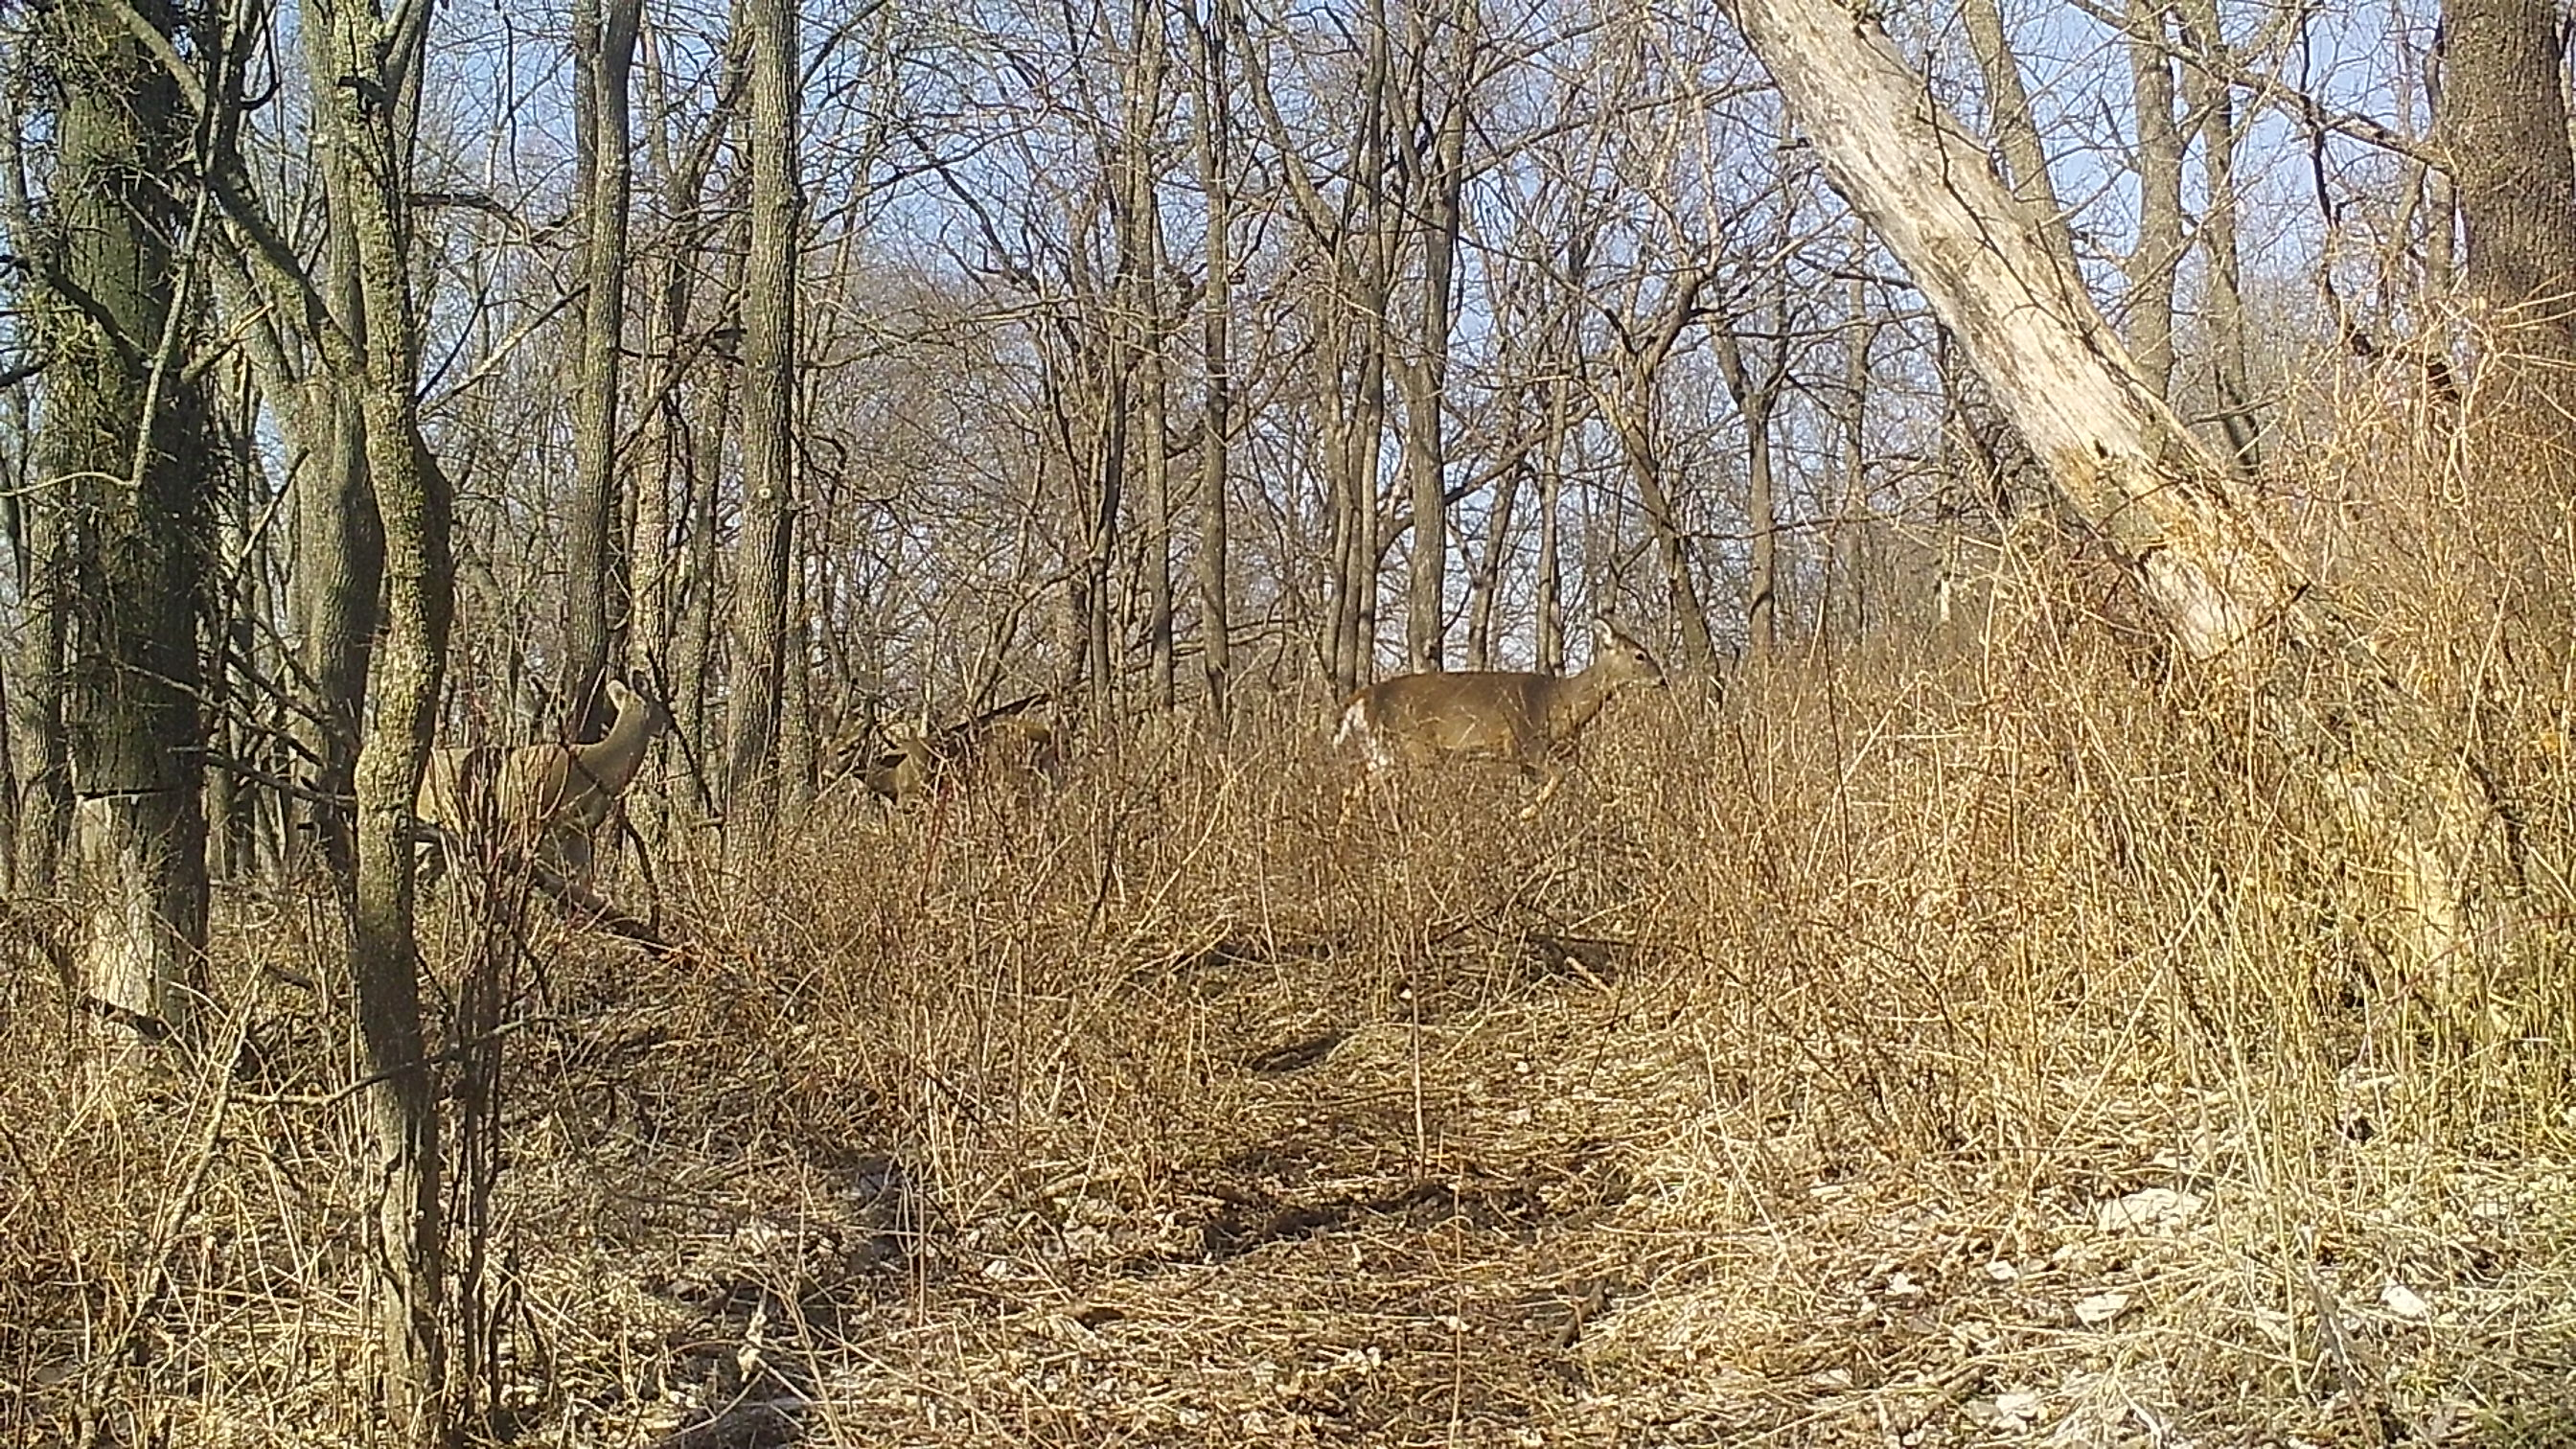Deer: (428, 669, 669, 865), (840, 685, 1065, 826)
DeerDoe: (1329, 617, 1668, 807)
